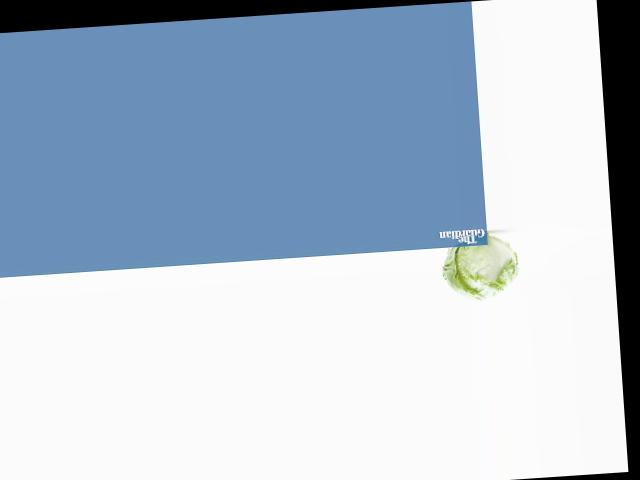lettuce: (442, 234, 520, 306)
